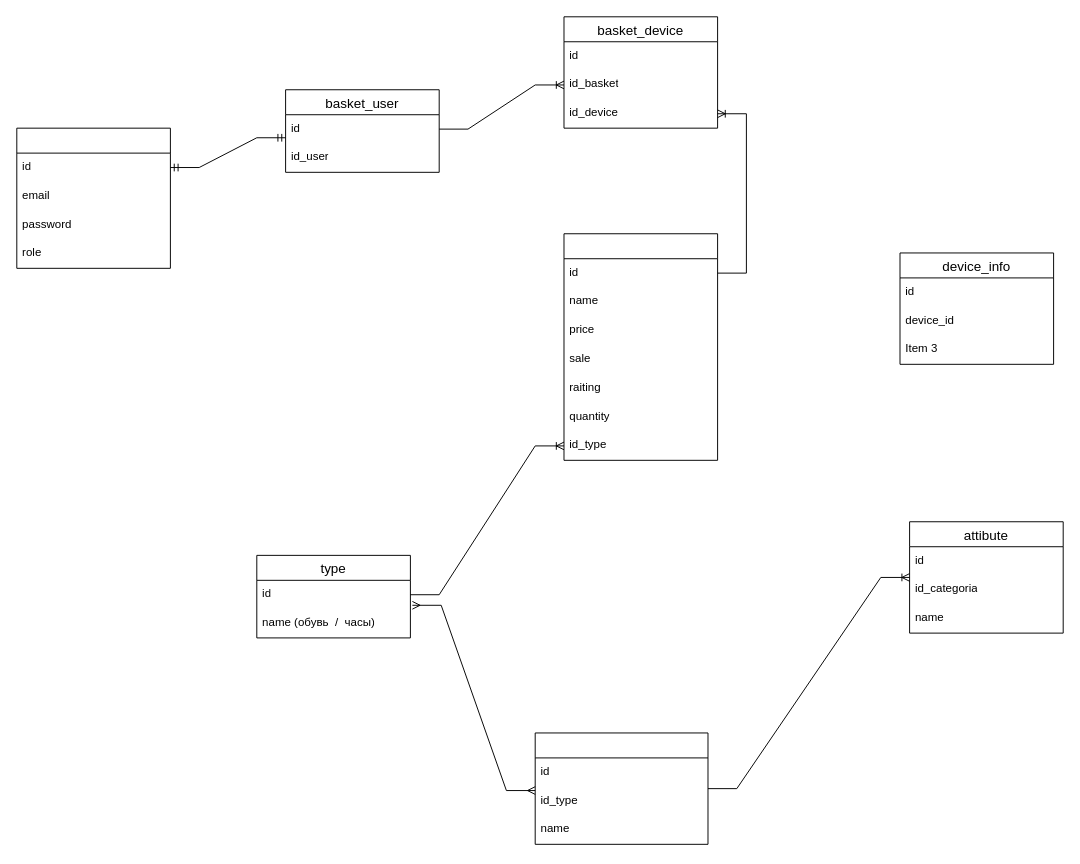
The diagram is 1080 pixels wide and 864 high, and some of its shapes have lost their labels. Each missing label, with the box of its shape:
categoria: (534, 732, 708, 844)
device: (563, 233, 718, 460)
user: (16, 127, 170, 268)
